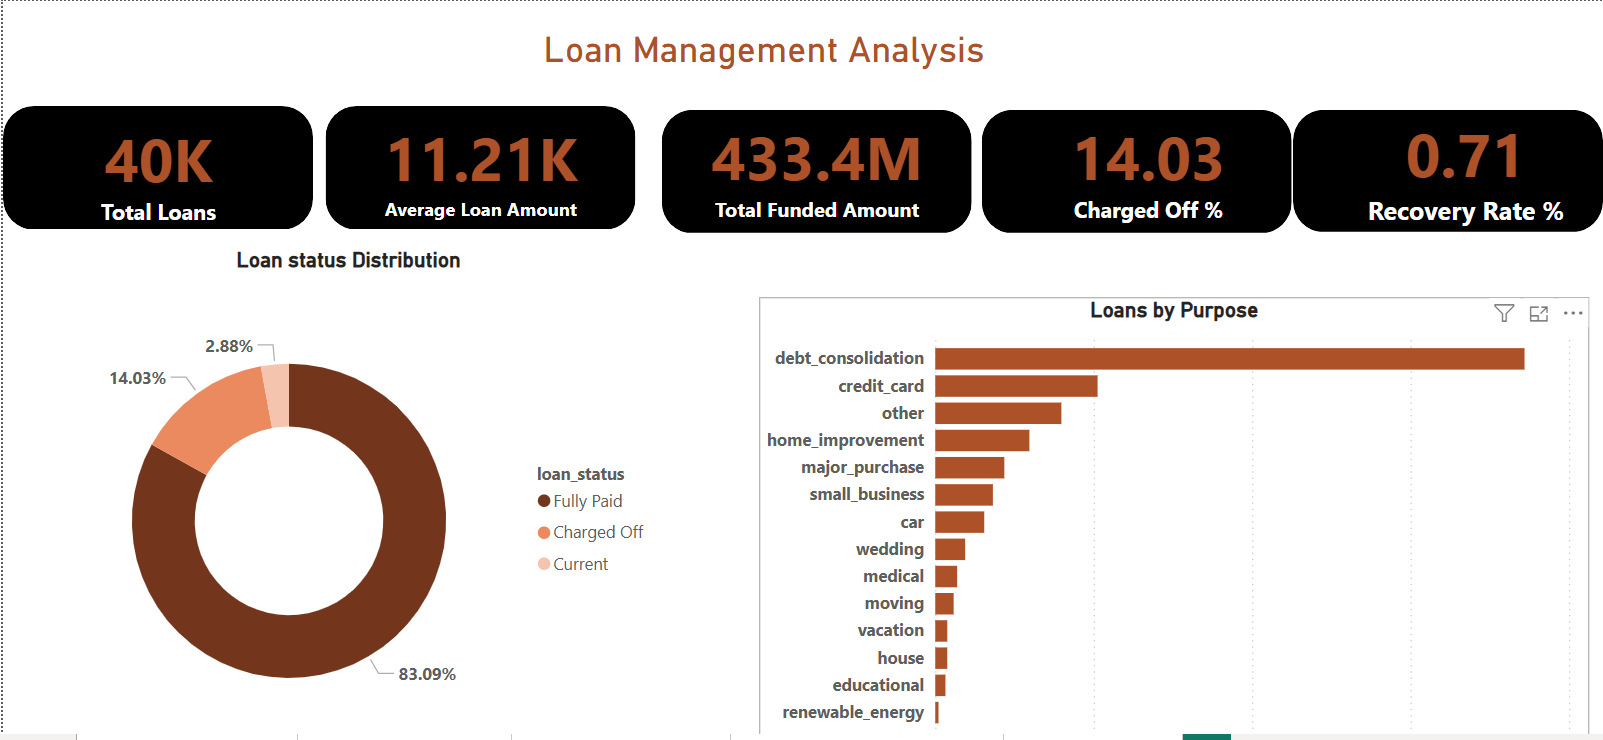

The dashboard page shown, as its layout file describes it:
{"tool":"powerbi","page":{"name":"Loan Summary Overview","canvas":[1280,720],"ordinal":0},"visuals":[{"type":"shape","box":[141.4,60.6,248.2,99.6],"z":0},{"type":"shape","box":[1020,63.5,248.2,98.1],"z":1000},{"type":"shape","box":[141.4,173.1,248.2,99.6],"z":2000},{"type":"shape","box":[734.4,62,248.2,99.6],"z":3000},{"type":"shape","box":[432.8,59.2,248.2,99.6],"z":4000},{"type":"card","fields":{"Values":["Measures (2).Recovery Rate %"]},"box":[1044.6,62,197.7,101],"z":5000},{"type":"card","fields":{"Values":["Measures (2).Charged Off %"]},"box":[167.4,171.7,196.2,101],"z":6000},{"type":"card","fields":{"Values":["Measures (2).Total Funded Amount"]},"box":[758.9,57.7,197.7,101],"z":7000},{"type":"card","fields":{"Values":["Measures (2).Average Loan Amount"]},"box":[458.8,57.7,196.2,101],"z":8000},{"type":"card","fields":{"Values":["Measures (2).Total Loans"]},"box":[167.4,57.7,196.2,101],"z":9000},{"type":"donutChart","title":"Loan status Distribution","fields":{"Category":["loan_project loan_analysis.loan_status"],"Y":["Measures (2).Total Loans"]},"box":[56.3,300.1,500.6,419.8],"z":10000},{"type":"clusteredBarChart","title":"Loans by Purpose","fields":{"Category":["loan_project loan_analysis.purpose"],"Y":["CountNonNull(loan_project loan_analysis.loan_amount)"]},"box":[578.4,206.7,701.9,415.8],"z":11000},{"type":"slicer","fields":{"Values":["loan_project loan_analysis.grade","loan_project loan_analysis.loan_status","loan_project loan_analysis.terms_months","loan_project loan_analysis.Issue Year"]},"box":[758.9,621.8,520.8,98.1],"z":12000},{"type":"textbox","box":[101,0,1109.5,46.2],"z":13000},{"type":"shape","box":[0,0,45,719.9],"z":14000}]}

Visuals, with their boxes on the page's 1280x720 design canvas (x1, y1, x2, y2). These are canvas units, not pixel positions in the 1603x740 screenshot, which may show the page scaled, cropped or inside an application window:
shape: left=141, top=61, right=390, bottom=160
shape: left=1020, top=64, right=1268, bottom=162
shape: left=141, top=173, right=390, bottom=273
shape: left=734, top=62, right=983, bottom=162
shape: left=433, top=59, right=681, bottom=159
card - Measures (2).Recovery Rate %: left=1045, top=62, right=1242, bottom=163
card - Measures (2).Charged Off %: left=167, top=172, right=364, bottom=273
card - Measures (2).Total Funded Amount: left=759, top=58, right=957, bottom=159
card - Measures (2).Average Loan Amount: left=459, top=58, right=655, bottom=159
card - Measures (2).Total Loans: left=167, top=58, right=364, bottom=159
"Loan status Distribution" donutChart: left=56, top=300, right=557, bottom=720
"Loans by Purpose" clusteredBarChart: left=578, top=207, right=1280, bottom=622
slicer - loan_project loan_analysis.grade x loan_project loan_analysis.loan_status: left=759, top=622, right=1280, bottom=720
textbox: left=101, top=0, right=1210, bottom=46
shape: left=0, top=0, right=45, bottom=720
